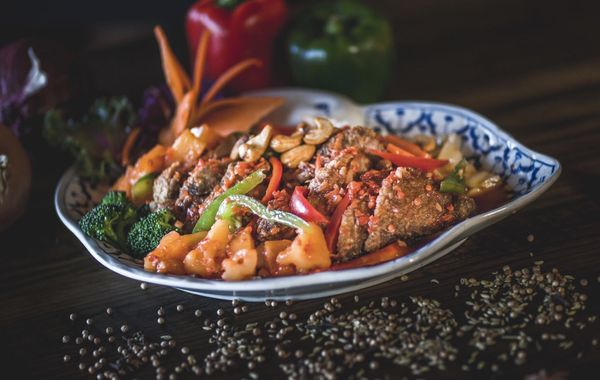curry: (127, 208, 179, 258)
sushi: (20, 95, 560, 304)
